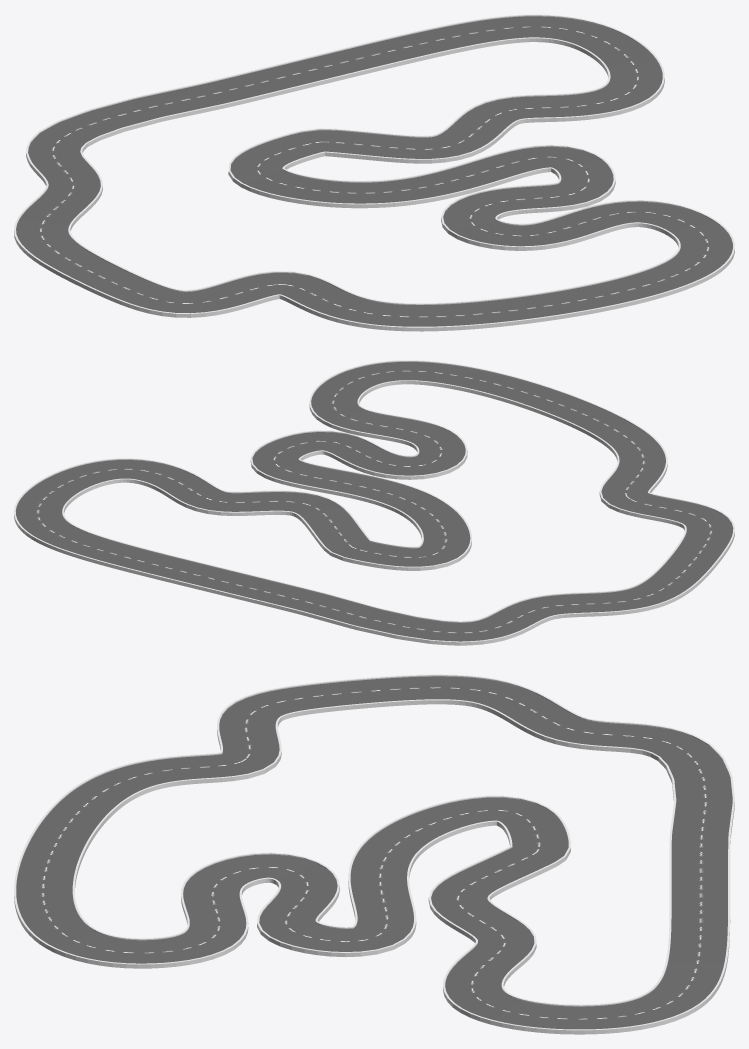
File: Track.obj
3 renders of one model, top to bottom at view 1: azimuth 30°, elevation 25°; view 2: azimuth 150°, elevation 25°; view 3: azimuth 270°, elevation 25°, orthographic. The views are drawn at different scales.
Parts seen in each view (by area): view 1: RoadPiece; view 2: RoadPiece; view 3: RoadPiece.
Boxes of the visible parts, x1=… form: RoadPiece: x1=14, y1=14, x2=734, y2=331; RoadPiece: x1=14, y1=360, x2=734, y2=645; RoadPiece: x1=14, y1=674, x2=734, y2=1034.
Bounding box in the file's own units: 555 × 3.96 × 475.
